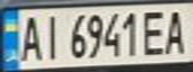1: (118, 8, 142, 57)
4: (103, 9, 124, 58)
6: (63, 10, 87, 60)
9: (84, 10, 106, 58)
A: (160, 6, 193, 55), (15, 11, 45, 62)
E: (139, 7, 172, 56)
I: (39, 11, 63, 61)
